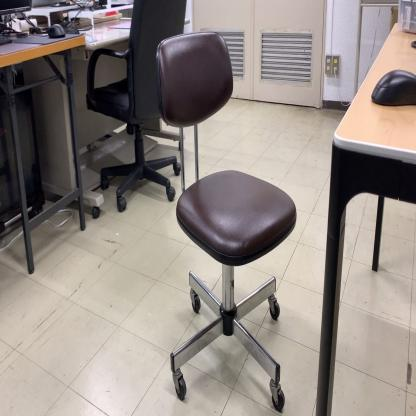chair: (154, 29, 298, 416), (86, 0, 188, 213)
